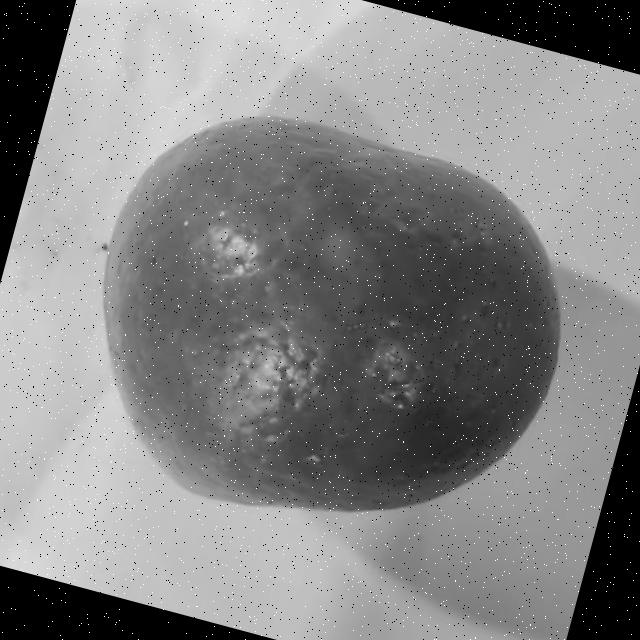Rotten: (46, 74, 603, 576)
